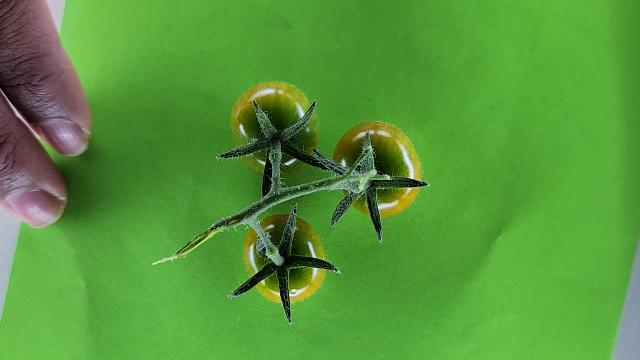Fully Grown: (331, 121, 422, 217), (230, 81, 320, 175), (243, 214, 328, 303)
